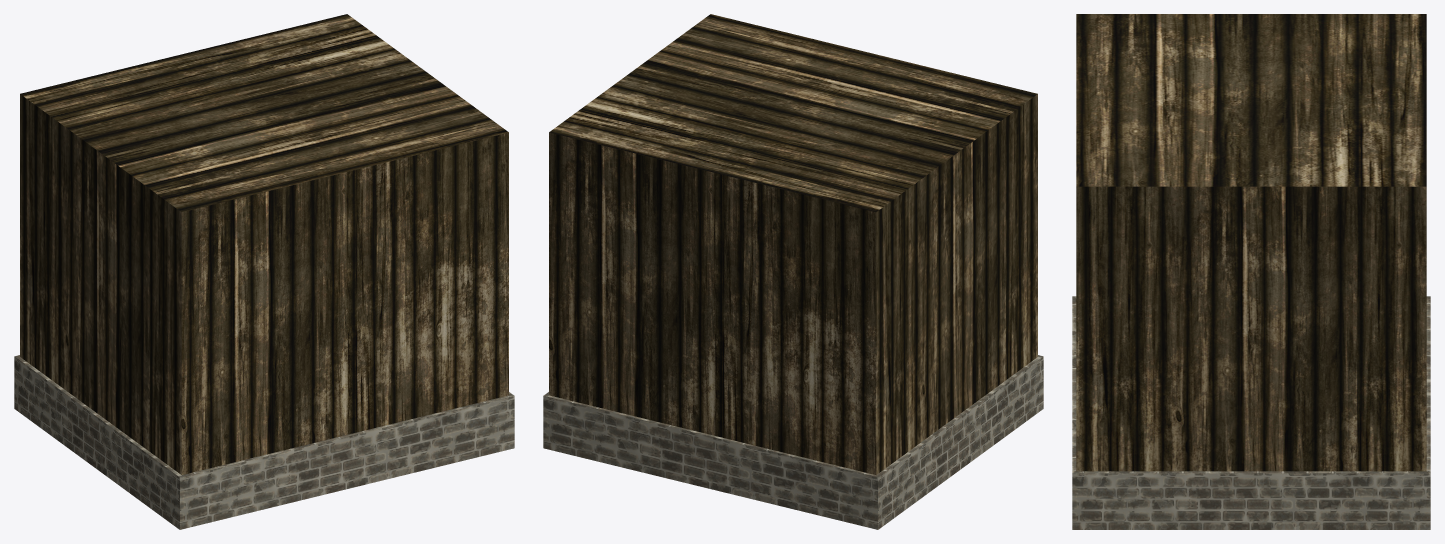
File: building-shape-3-2-story.glb
3 views of the same model, side by side, from view 1: azimuth 30°, elevation 25°; view 2: azimuth 150°, elevation 25°; view 3: azimuth 270°, elevation 25° (orthographic). The views are drawn at different scales.
Visible parts, largest first — view 1: Building_Shape_3_2_Story; view 2: Building_Shape_3_2_Story; view 3: Building_Shape_3_2_Story.
Part boxes in pixels (x1,y1,x2,y2): Building_Shape_3_2_Story: (14, 14, 514, 529); Building_Shape_3_2_Story: (543, 14, 1043, 529); Building_Shape_3_2_Story: (1072, 14, 1430, 529).
Bounding box in the file's own units: 4.98 × 4.48 × 4.26.
Materials: 1 (1 with a texture image).
